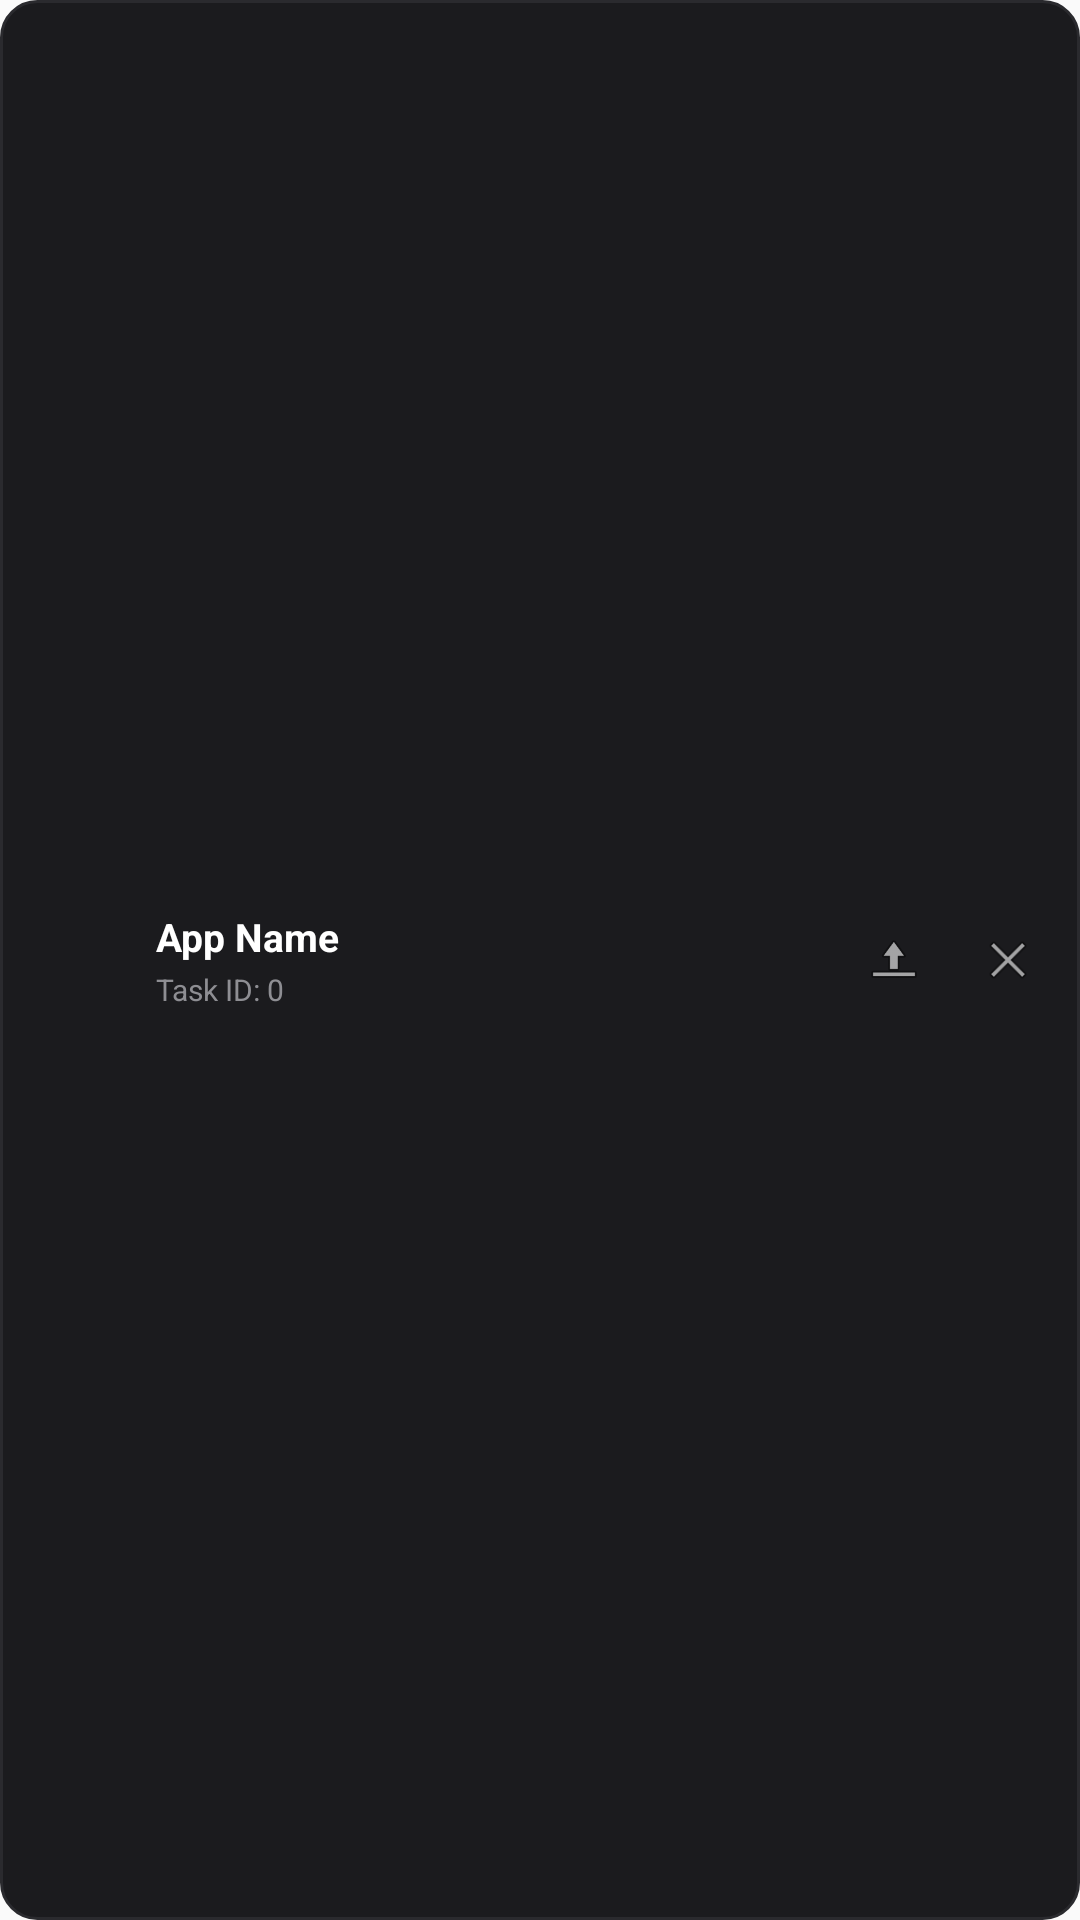

Where icons sit on this 1080px x 1920px app screen, as (x1, y1, x2, y2):
Bring to Front: (873, 942, 915, 976)
Close: (991, 943, 1025, 977)
